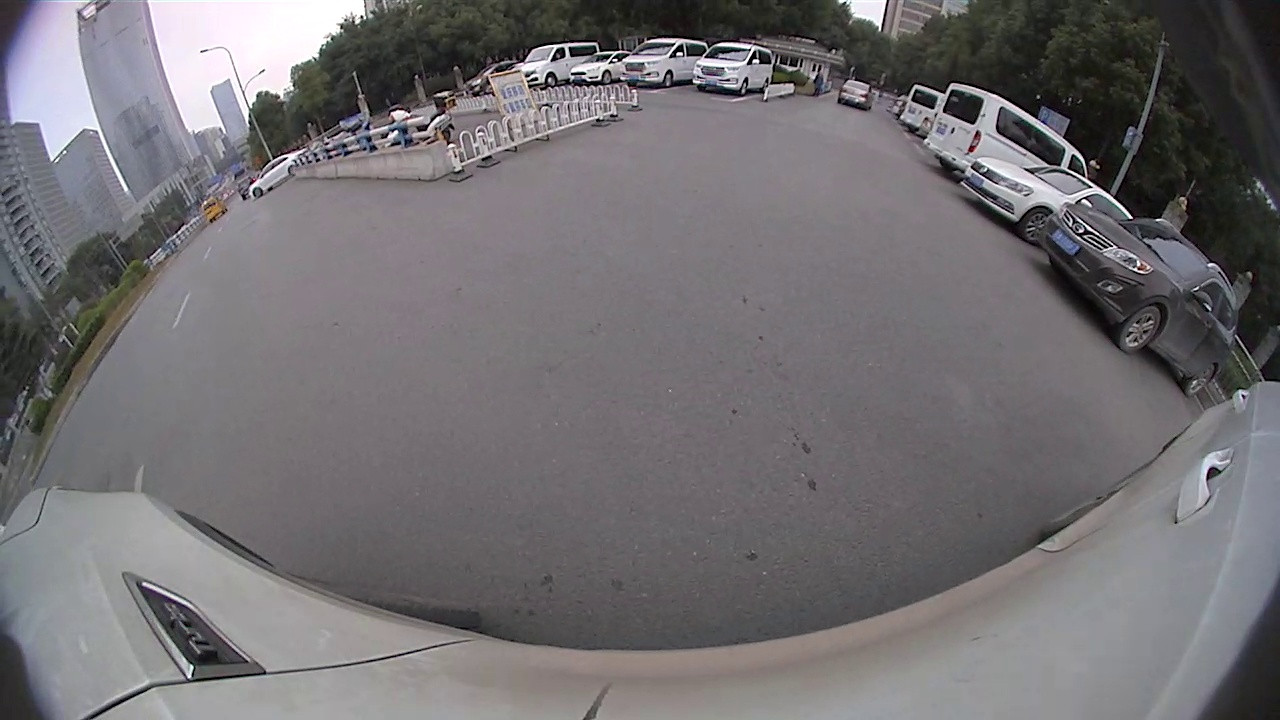car: (1041, 202, 1243, 401), (920, 82, 1092, 185), (960, 153, 1135, 250), (618, 36, 710, 90), (689, 41, 775, 94), (245, 144, 314, 204), (518, 42, 600, 92), (896, 81, 948, 138), (568, 50, 637, 88), (835, 78, 878, 111)
front: (1116, 304, 1165, 355), (1019, 206, 1054, 247), (545, 73, 559, 87), (663, 71, 674, 88), (600, 71, 612, 86), (739, 80, 749, 96), (252, 186, 263, 198)
rear: (1183, 362, 1217, 400)
